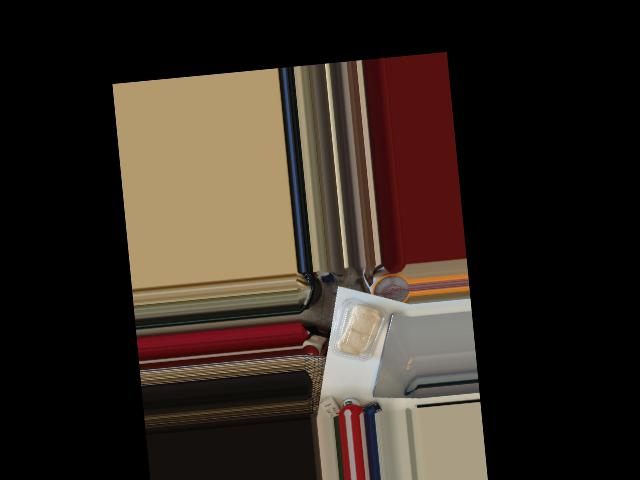cheese: (326, 290, 391, 366)
